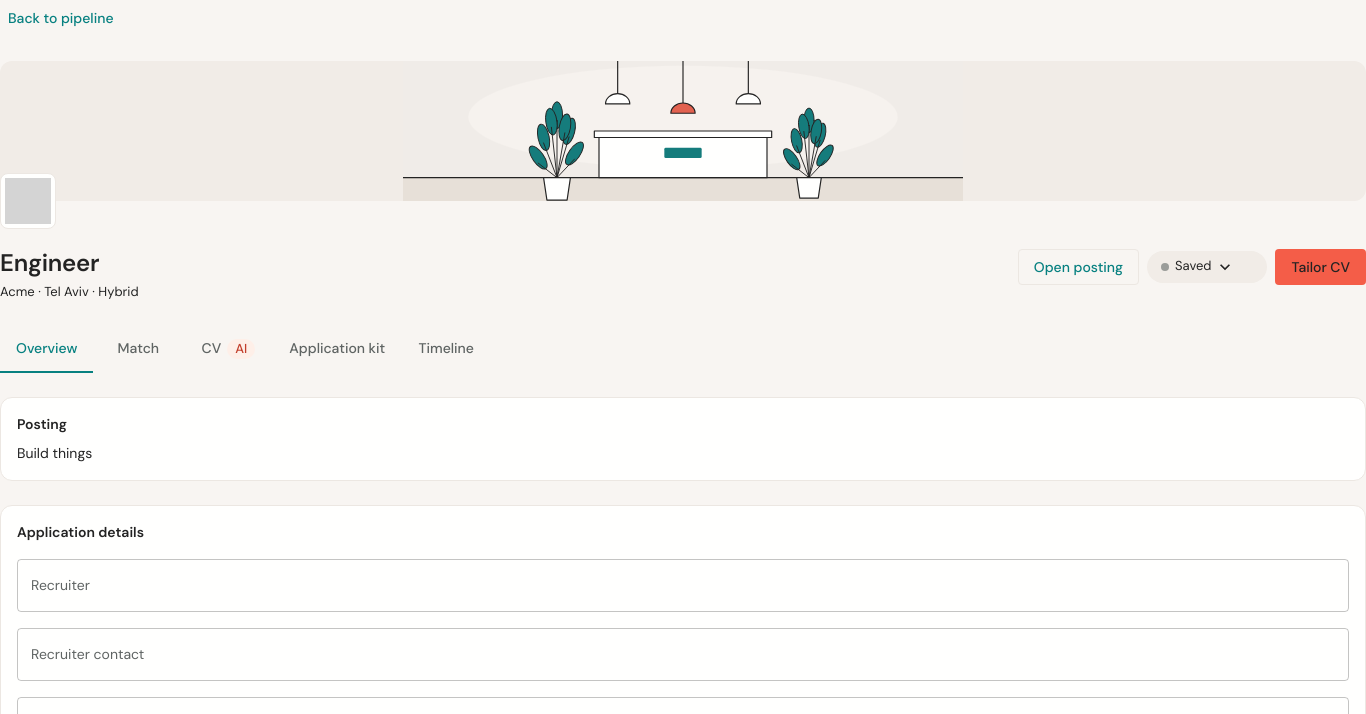
JobPage › should open the CV tab from the primary action when there is no CV
Expected: the heading "Engineer" is shown, [0,246,99,278]
Click the button "Tailor CV".
click(1321, 267)  # box [1276,248,1365,285]
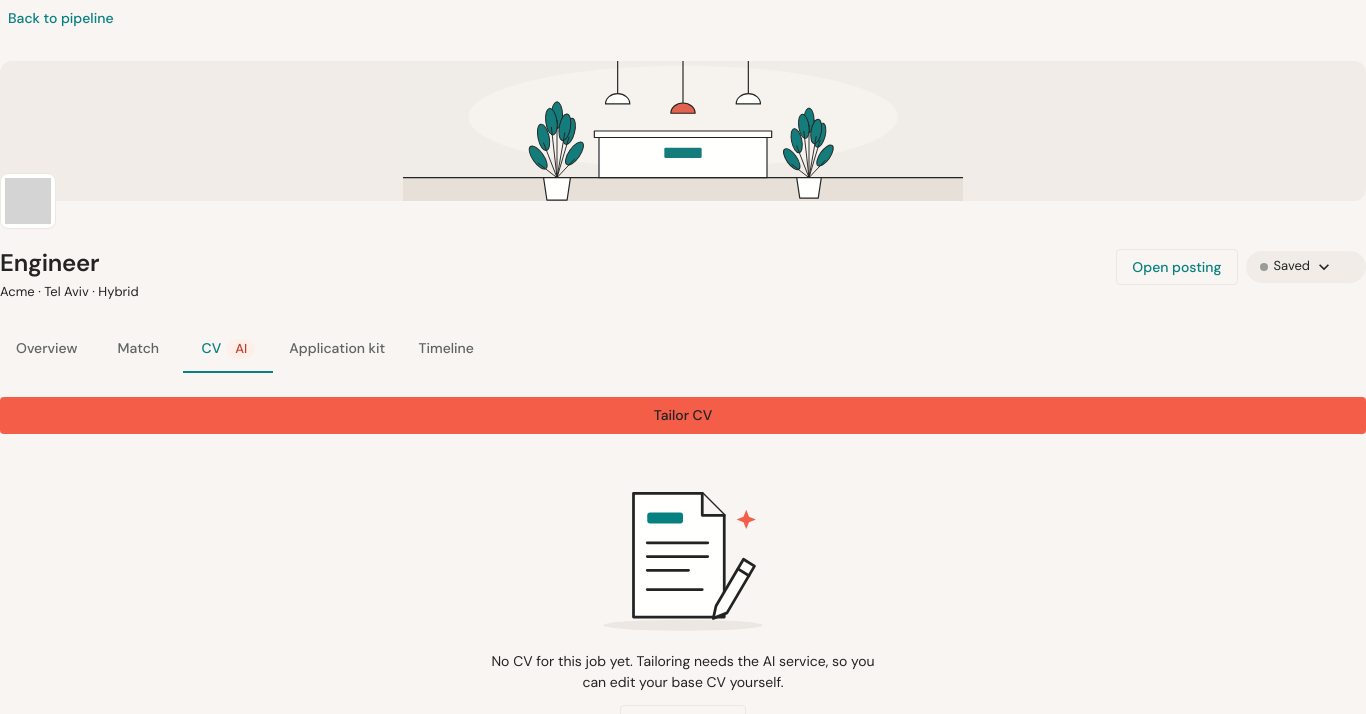
Now the text "No CV for this job yet" is shown, box [491,652,874,691]
